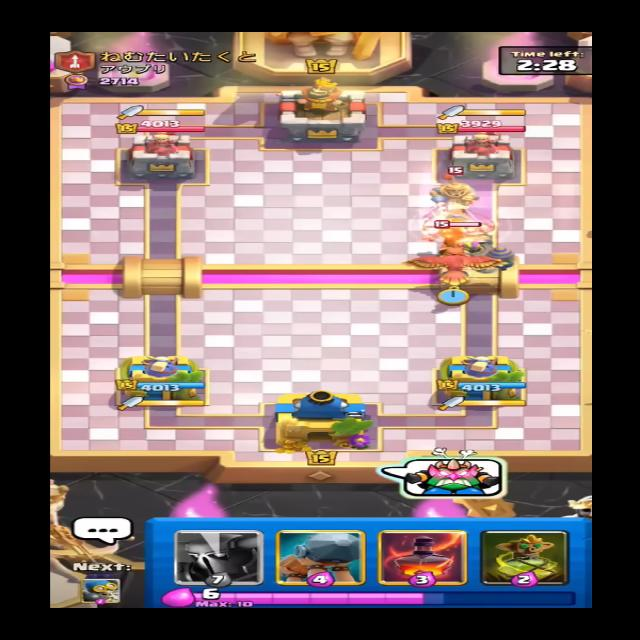Prince: (429, 172, 486, 218)
